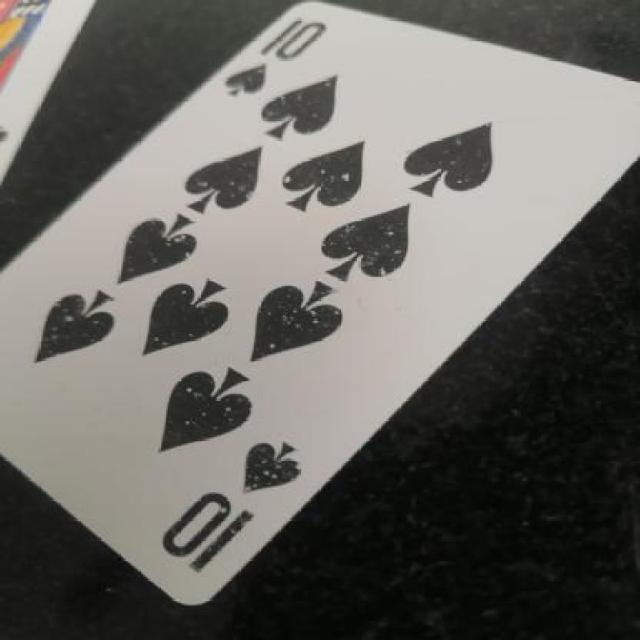10S: (144, 433, 331, 578), (208, 8, 334, 108)
